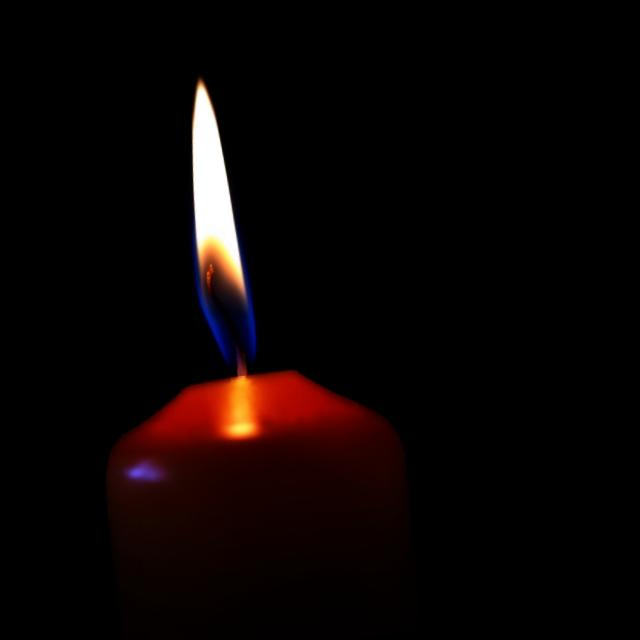Fire_Save: (60, 56, 424, 640), (174, 71, 260, 376)
